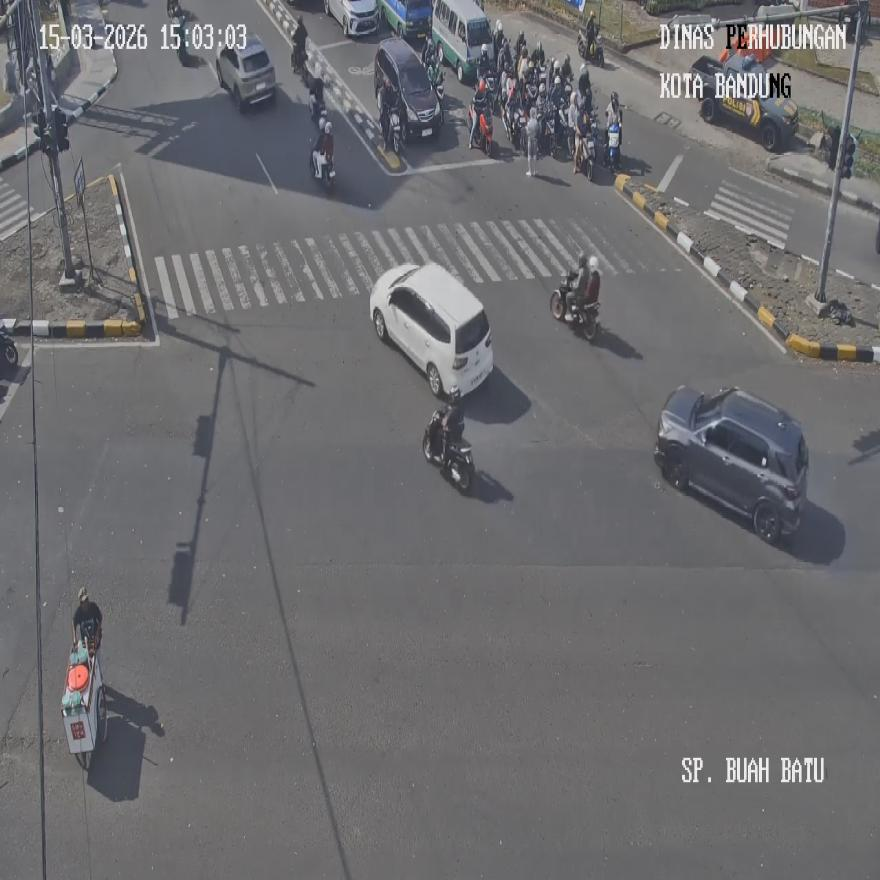Motor: (654, 385, 808, 544), (368, 260, 493, 401), (373, 36, 443, 140), (431, 0, 492, 84), (215, 34, 276, 108)
Truk: (424, 416, 474, 492), (551, 280, 600, 341), (467, 100, 493, 155), (312, 144, 336, 193), (577, 24, 603, 69), (382, 105, 404, 155), (573, 130, 594, 180), (503, 102, 523, 150), (0, 323, 19, 369), (308, 74, 324, 124), (605, 122, 620, 174), (540, 111, 556, 158), (291, 40, 307, 82), (175, 15, 187, 64)
